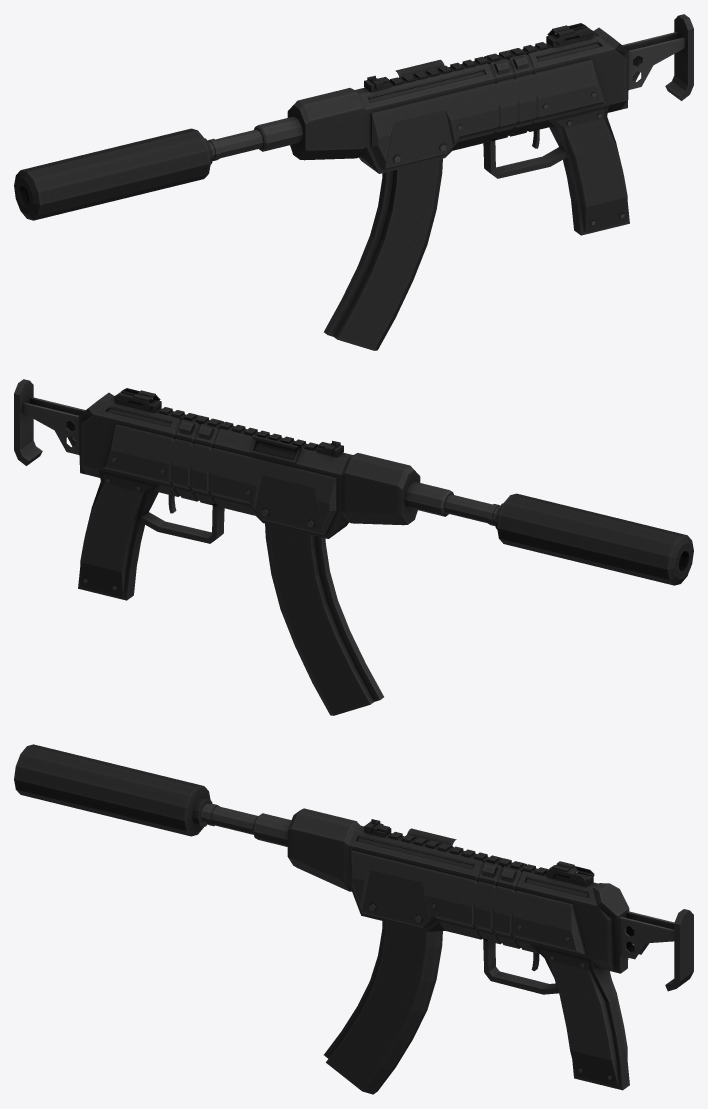
The model's file is Rifle_1.fbx.
The picture shows the model from 3 angles, top to bottom: view 1: azimuth 30°, elevation 25°; view 2: azimuth 150°, elevation 25°; view 3: azimuth 330°, elevation 25°; orthographic projection.
Visible parts, largest first — view 1: rifle_1; view 2: rifle_1; view 3: rifle_1.
Part boxes in pixels (bbox=[...]): rifle_1: bbox=[14, 14, 693, 350]; rifle_1: bbox=[14, 379, 693, 715]; rifle_1: bbox=[14, 744, 693, 1094].
Bounding box in the file's own units: 3280 × 1290 × 231.
